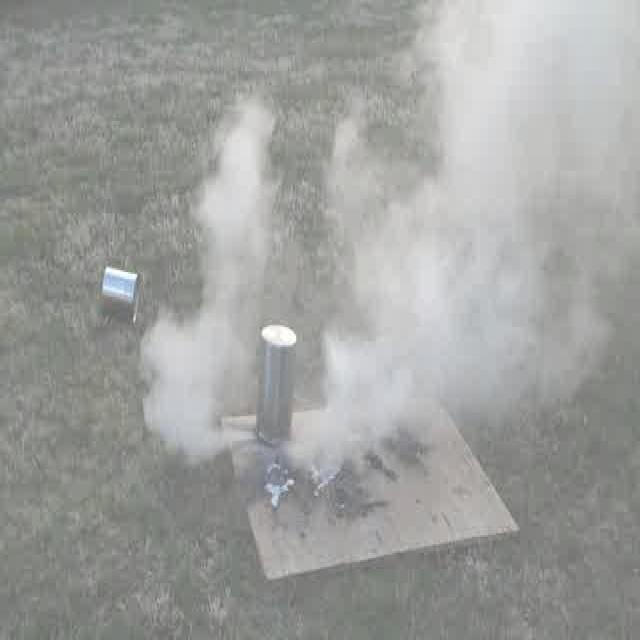Smoke: (139, 0, 640, 480)
